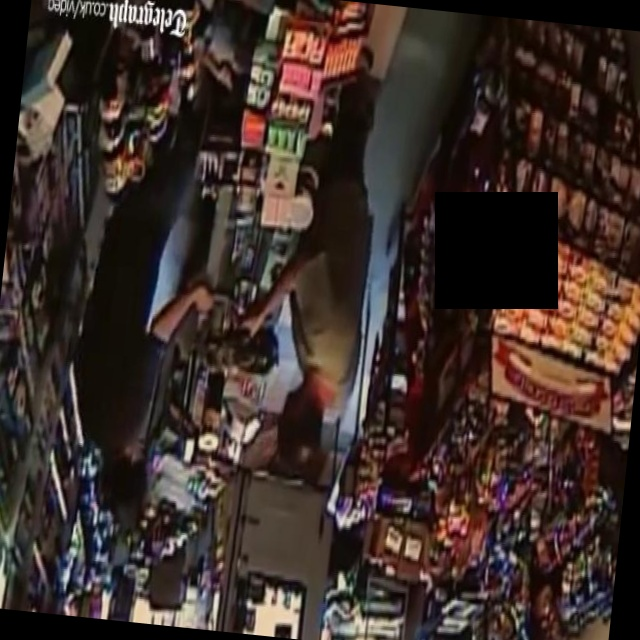gun: (206, 321, 256, 359)
